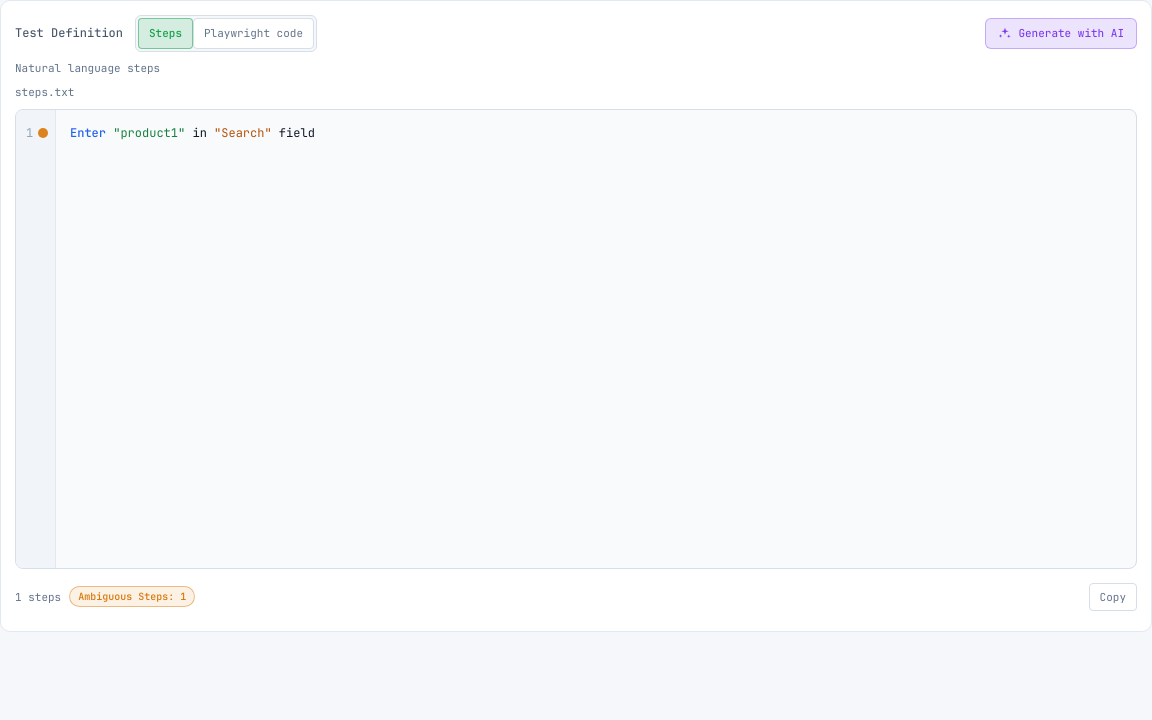
TestCaseEditorPanel › renders ambiguous warning indicator beside the line number with hover tooltip
Check: the text "Ambiguous Steps: 1" is shown, box [69,586,195,607]
Step 1. Hover over the icon named "Line 1 has warning indicator" → coordinates (43, 132), box [38,128,48,138]
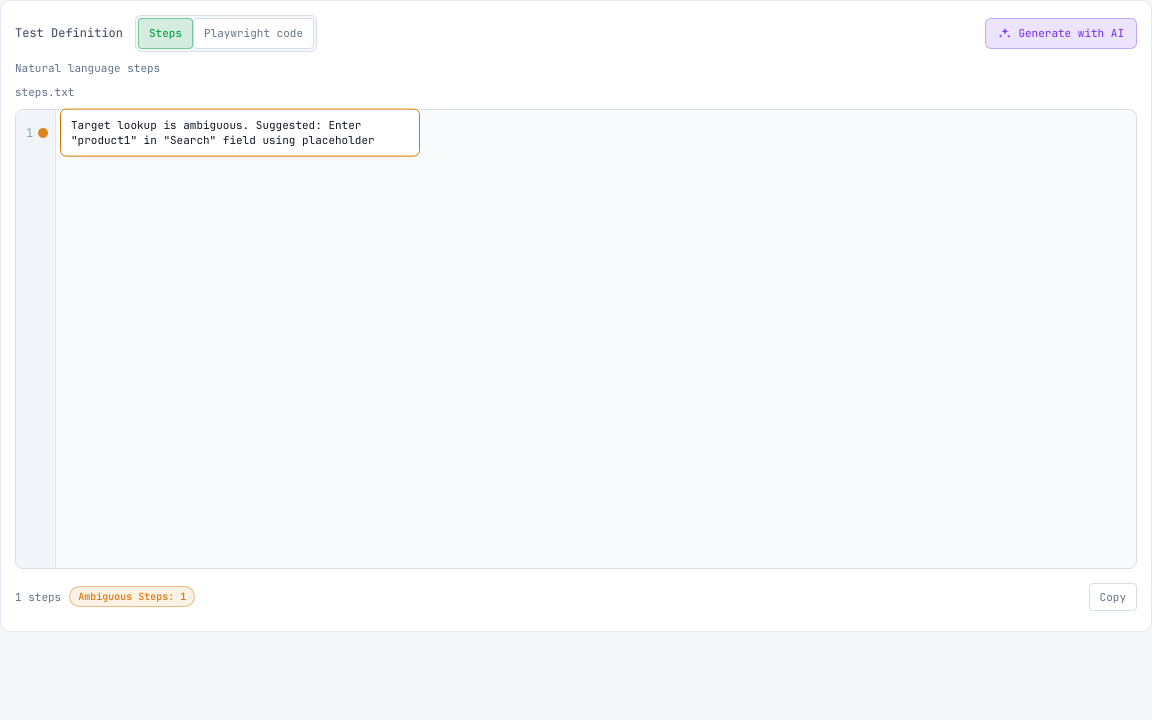
Check: the tooltip shows "Target lookup is ambiguous.", box [71,117,375,146]
Check: the tooltip shows "Enter \"product1\" in \"Search\" field using placeholder", box [71,117,375,146]
